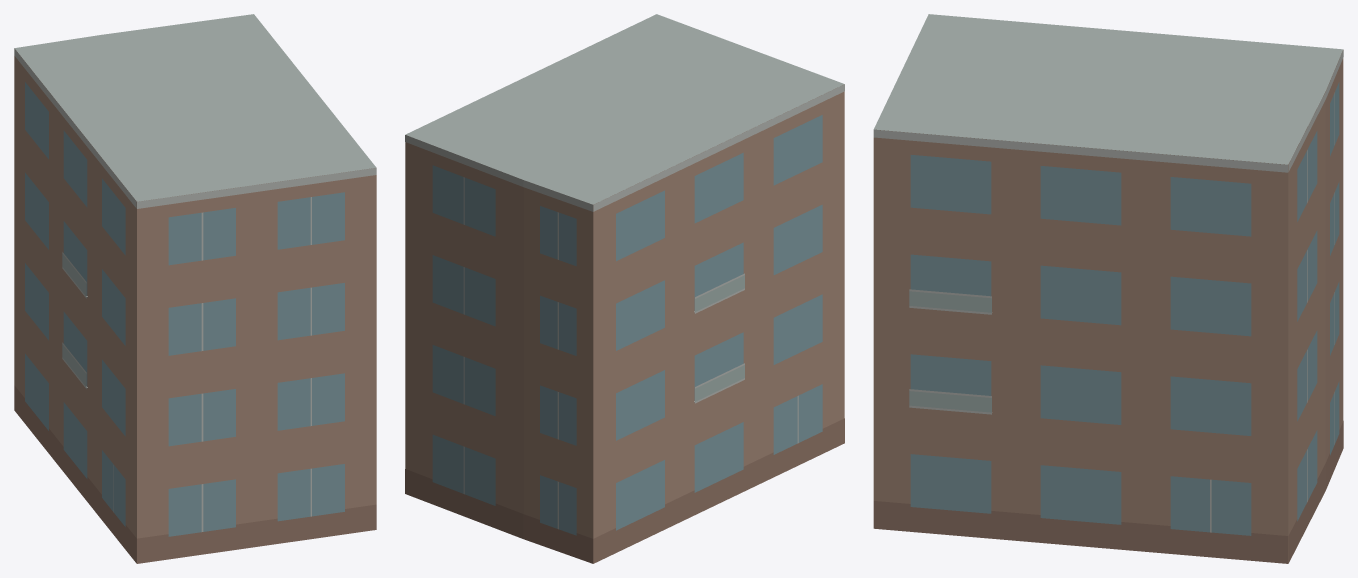
File: residential-0c6f32e6-d823-4e06-9712-07cae708bad4.glb
3 views of the same model, side by side, from view 1: azimuth 30°, elevation 25°; view 2: azimuth 150°, elevation 25°; view 3: azimuth 270°, elevation 25° (orthographic). The views are drawn at different scales.
Visible parts, largest first — view 1: residential-0c6f32e6-d823-4e06-9712-07cae708bad4.tmp; view 2: residential-0c6f32e6-d823-4e06-9712-07cae708bad4.tmp; view 3: residential-0c6f32e6-d823-4e06-9712-07cae708bad4.tmp.
Part boxes in pixels (bbox=[...]): residential-0c6f32e6-d823-4e06-9712-07cae708bad4.tmp: bbox=[14, 14, 376, 563]; residential-0c6f32e6-d823-4e06-9712-07cae708bad4.tmp: bbox=[405, 14, 844, 563]; residential-0c6f32e6-d823-4e06-9712-07cae708bad4.tmp: bbox=[873, 14, 1343, 563].
Bounding box in the file's own units: 9.89 × 12.2 × 13.03.
